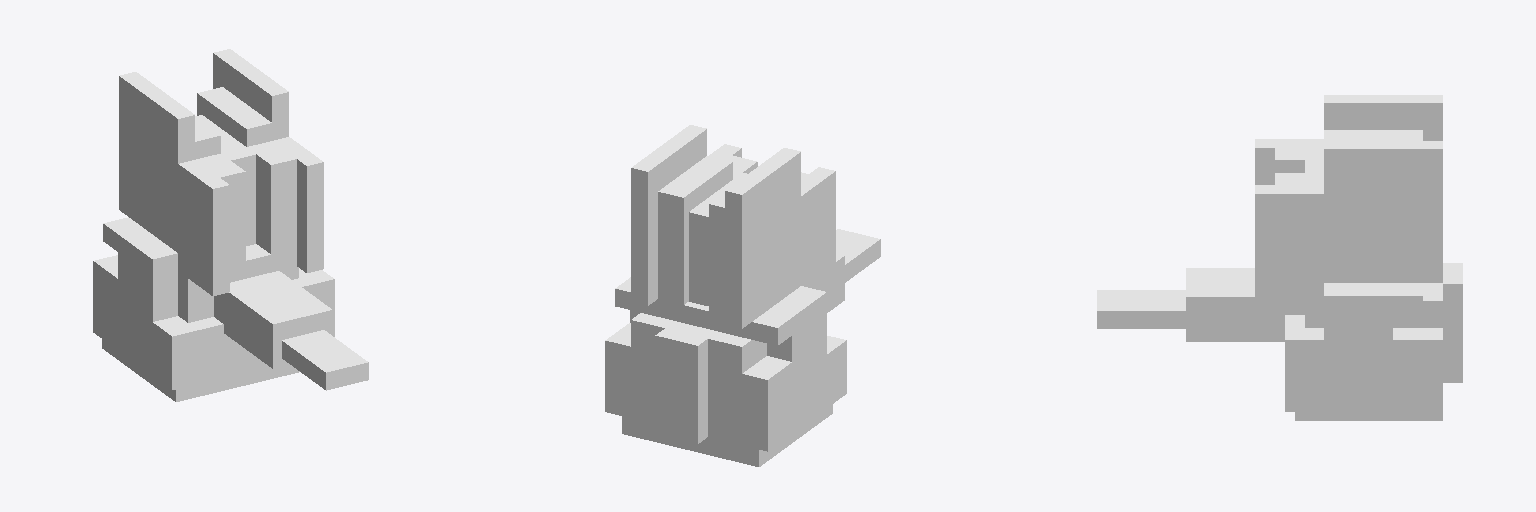
The model's file is LuckyTower0_Top.obj.
The picture shows the model from 3 angles: view 1: azimuth 30°, elevation 25°; view 2: azimuth 150°, elevation 25°; view 3: azimuth 270°, elevation 25°; orthographic projection.
Parts seen in each view (by area): view 1: LuckyTower0_Top; view 2: LuckyTower0_Top; view 3: LuckyTower0_Top.
Boxes of the visible parts, <box> form: LuckyTower0_Top: <box>93,49,368,401</box>; LuckyTower0_Top: <box>605,125,880,466</box>; LuckyTower0_Top: <box>1097,95,1462,420</box>.
Size of the model in its own units: 19 by 30 by 37.